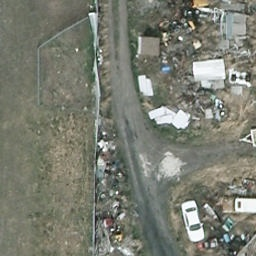car: (179, 201, 208, 240)
